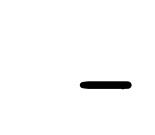minus: (80, 80, 132, 90)
